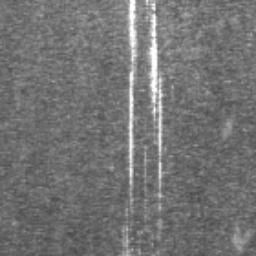Bright scratch: (119, 0, 137, 255), (147, 4, 162, 204)
